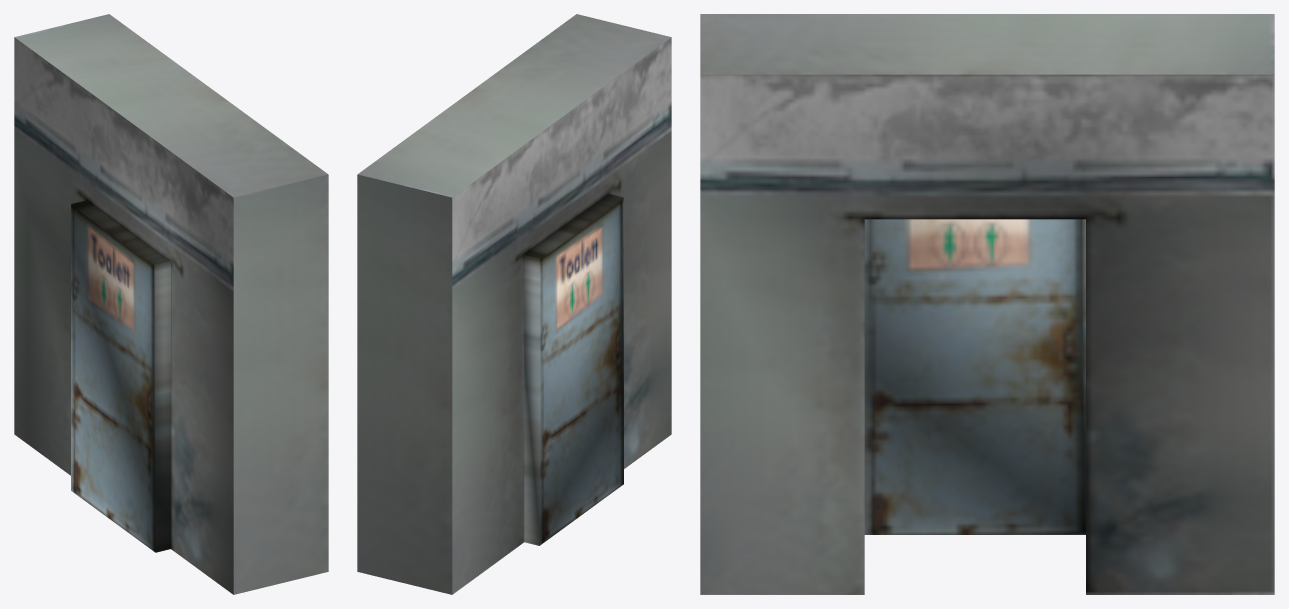
File: toalett.fbx
The picture shows the model from 3 angles, left to right: view 1: azimuth 30°, elevation 25°; view 2: azimuth 150°, elevation 25°; view 3: azimuth 270°, elevation 25°; orthographic projection. The views are drawn at different scales.
Visible parts, largest first — view 1: Wall, Wall.001; view 2: Wall, Wall.001; view 3: Wall, Wall.001.
Boxes of the visible parts, x1=… form: Wall: x1=14, y1=14, x2=328, y2=594; Wall.001: x1=71, y1=200, x2=170, y2=552; Wall: x1=357, y1=14, x2=671, y2=594; Wall.001: x1=524, y1=193, x2=623, y2=545; Wall: x1=700, y1=14, x2=1274, y2=594; Wall.001: x1=864, y1=219, x2=1085, y2=534.
Bounding box in the file's own units: 116 × 400 × 400.
